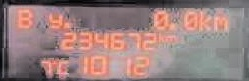-: (167, 20, 175, 30), (62, 19, 70, 28)
0: (87, 52, 105, 75), (150, 8, 167, 29), (182, 9, 197, 30)
1: (122, 54, 130, 75), (80, 54, 87, 74)
2: (130, 54, 147, 75), (59, 30, 74, 50), (140, 30, 155, 50)
3: (77, 30, 92, 47)
4: (92, 30, 107, 47)
6: (109, 31, 124, 49)
7: (125, 30, 140, 49), (40, 59, 50, 74)
X: (15, 8, 32, 28), (197, 9, 210, 29), (212, 14, 227, 30), (55, 56, 67, 75), (47, 12, 60, 28), (164, 33, 175, 40), (157, 30, 163, 40)
